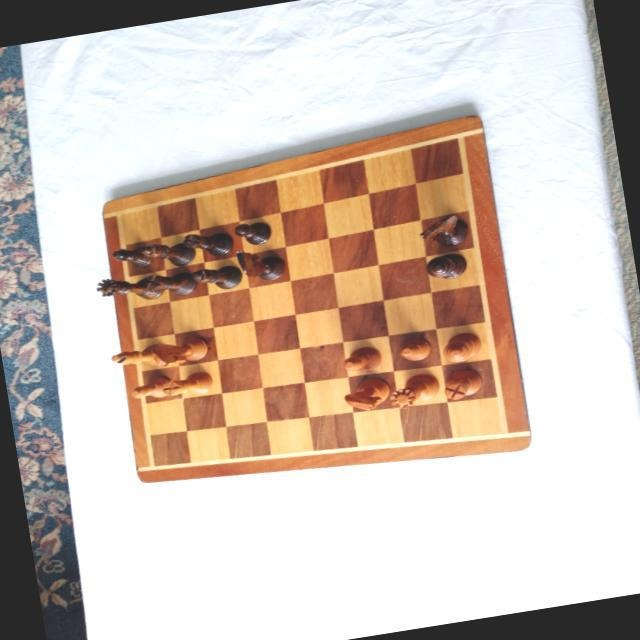black-bishop: (135, 234, 197, 269), (192, 259, 244, 293)
black-king: (423, 249, 471, 284)
black-knight: (231, 243, 288, 287), (414, 210, 471, 253)
black-pawn: (109, 239, 158, 270), (233, 216, 275, 248)
black-queen: (94, 271, 158, 303)
black-rook: (139, 265, 201, 302), (179, 226, 237, 262)
white-bishop: (109, 339, 164, 369), (340, 341, 384, 375)
white-king: (440, 327, 484, 361)
white-knight: (147, 329, 212, 370), (339, 373, 396, 415)
white-pawn: (128, 373, 172, 399), (397, 335, 431, 363)
white-queen: (384, 369, 444, 408)
white-rook: (438, 365, 486, 403), (158, 367, 215, 398)
